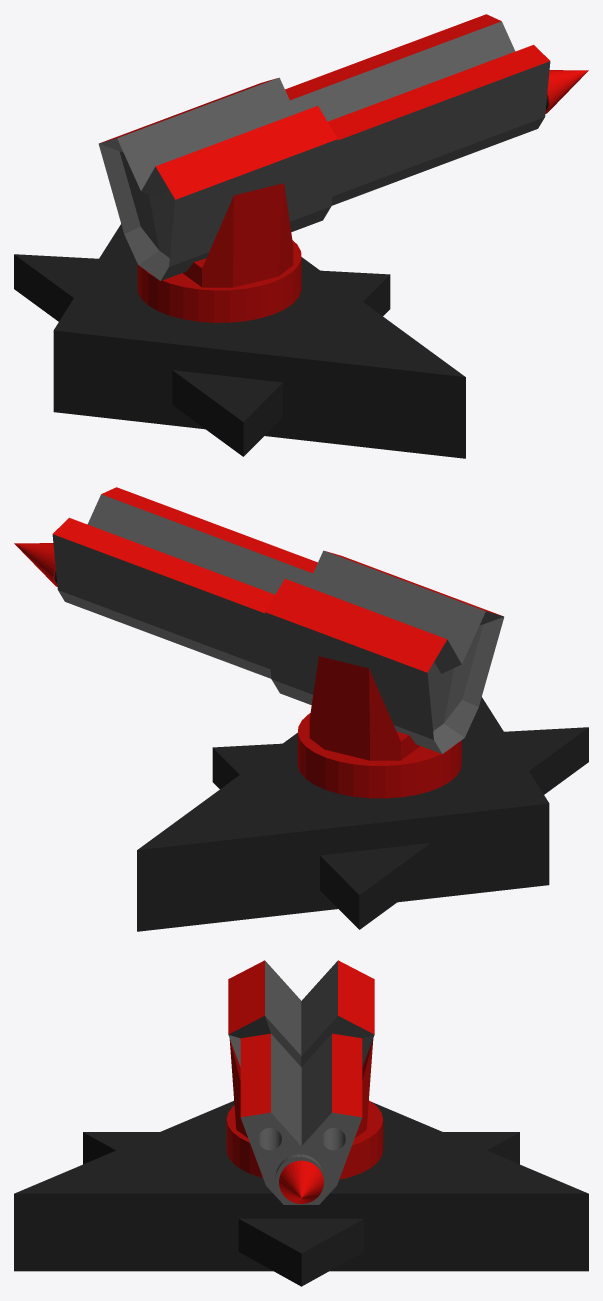
File: TowerRocket.fbx
3 renders of one model, top to bottom at view 1: azimuth 30°, elevation 25°; view 2: azimuth 150°, elevation 25°; view 3: azimuth 270°, elevation 25°, orthographic. The views are drawn at different scales.
Visible parts, largest first — view 1: Base, Gun, Turner, Rocket; view 2: Base, Gun, Turner, Rocket; view 3: Base, Gun, Turner, Rocket.
Boxes of the visible parts, x1,y1,x2,y2 form: Base: [14, 224, 465, 458]; Gun: [98, 14, 550, 280]; Turner: [137, 183, 301, 322]; Rocket: [545, 70, 588, 113]; Base: [137, 697, 588, 931]; Gun: [52, 487, 504, 753]; Turner: [297, 656, 461, 798]; Rocket: [14, 543, 57, 586]; Base: [14, 1101, 588, 1286]; Gun: [228, 960, 374, 1204]; Turner: [226, 1039, 383, 1179]; Rocket: [279, 1160, 323, 1203].
Size of the model in its own units: 290 by 137 by 283.
